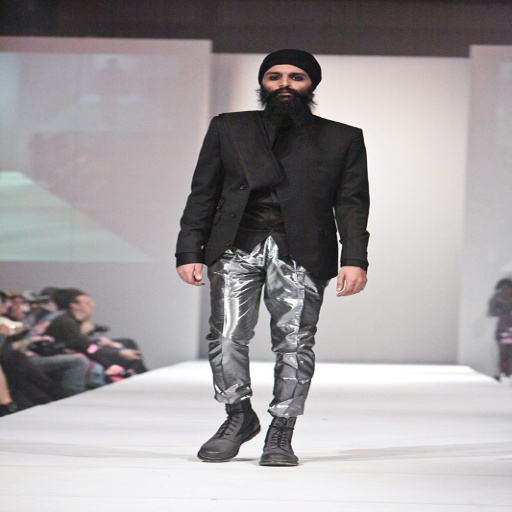hand: (335, 257, 375, 302), (177, 261, 205, 287), (30, 329, 54, 345), (121, 345, 140, 361)
